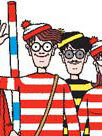waldo: (21, 19, 57, 69)
